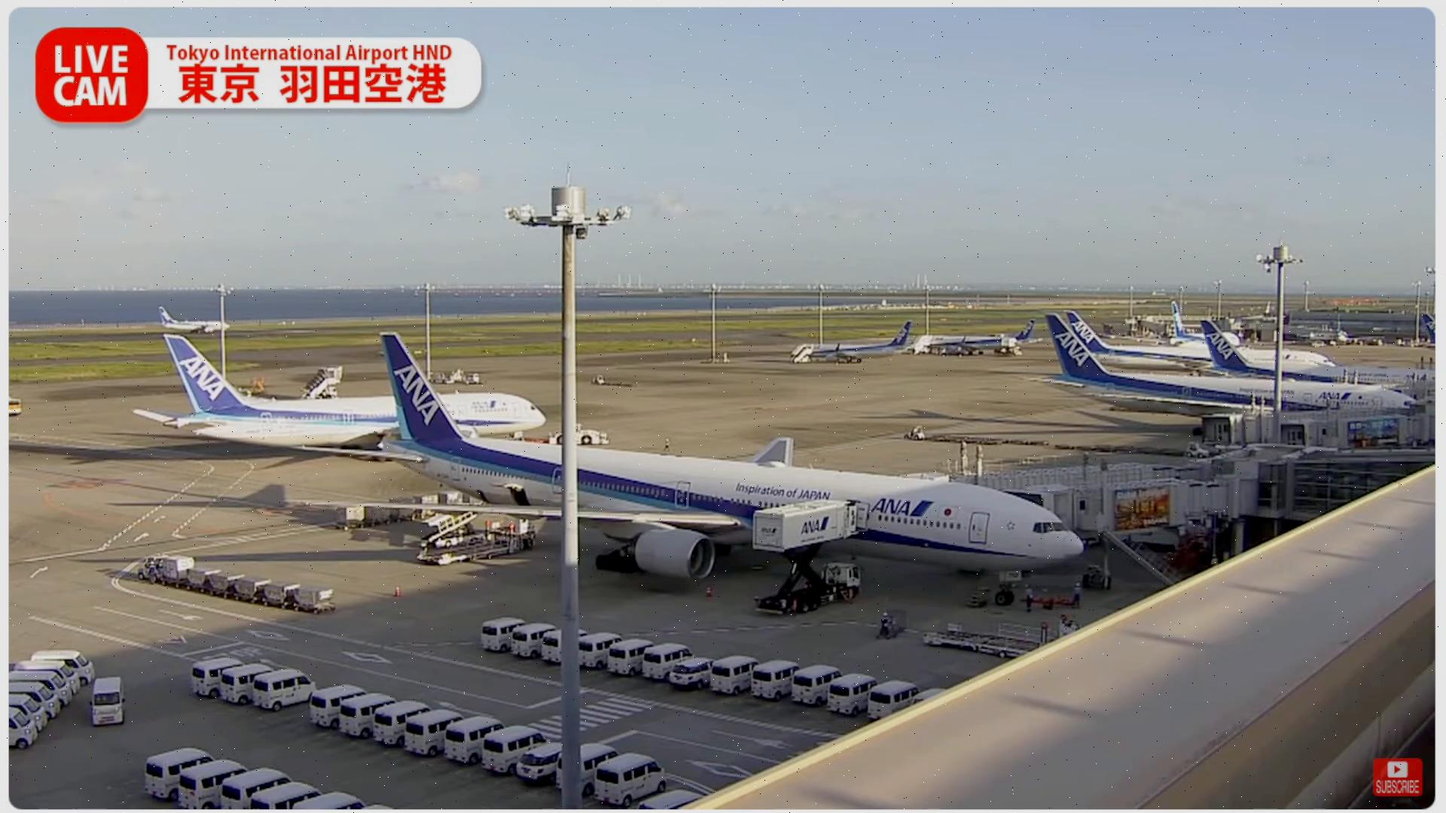Aerobridge: (1002, 452, 1258, 588), (892, 443, 1211, 486)
Airplane: (279, 333, 1086, 605)
Catering: (753, 498, 860, 616)
Dolly: (165, 576, 334, 615), (332, 511, 436, 530)
JCPL: (922, 620, 1081, 658), (417, 520, 536, 565)
Skyloader: (420, 512, 482, 549)
Tractor: (137, 554, 168, 583)
ULD: (296, 583, 334, 606), (234, 575, 271, 597), (262, 581, 298, 603), (161, 557, 196, 579), (210, 570, 245, 590), (184, 566, 220, 585), (413, 492, 439, 513), (337, 506, 365, 524), (390, 497, 415, 517), (438, 489, 463, 504), (367, 507, 391, 520)
Window: (1291, 461, 1433, 515)
